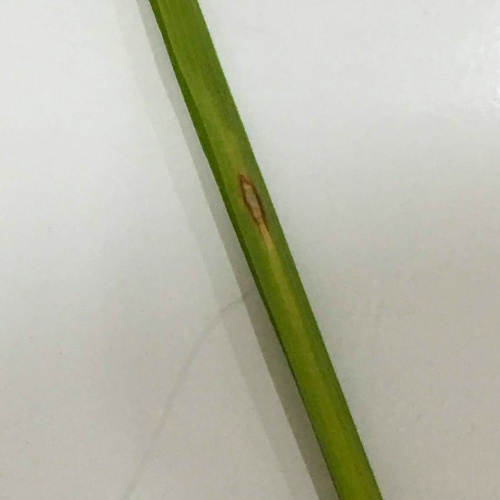Busuk Leher: (224, 167, 281, 243)
